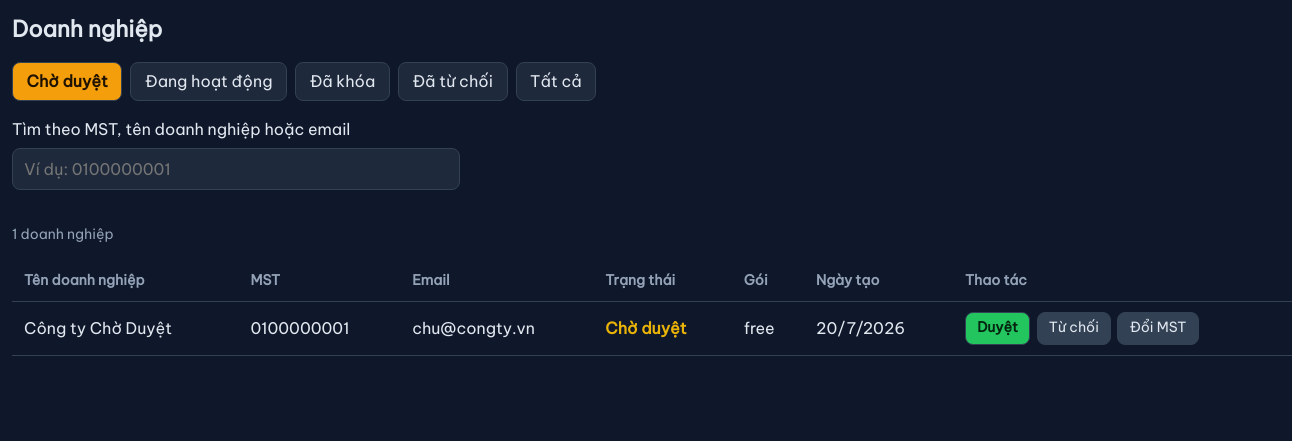
Test: Xác nhận & lỗi › 🔴 409 → nói đúng bản chất 'trạng thái vừa thay đổi', không phải lỗi chung chung
This screenshot has width=1292, height=441.
Click the button "Duyệt". click: [998, 328]
box: x1=965 y1=312 x2=1030 y2=345
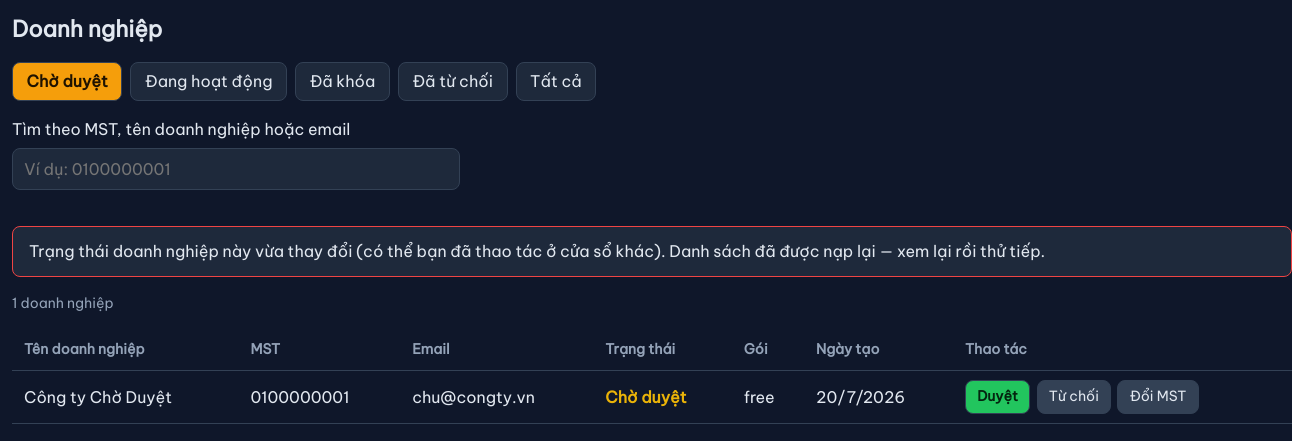
Expected: the message shows "vừa thay đổi", x1=29 y1=242 x2=1045 y2=262
